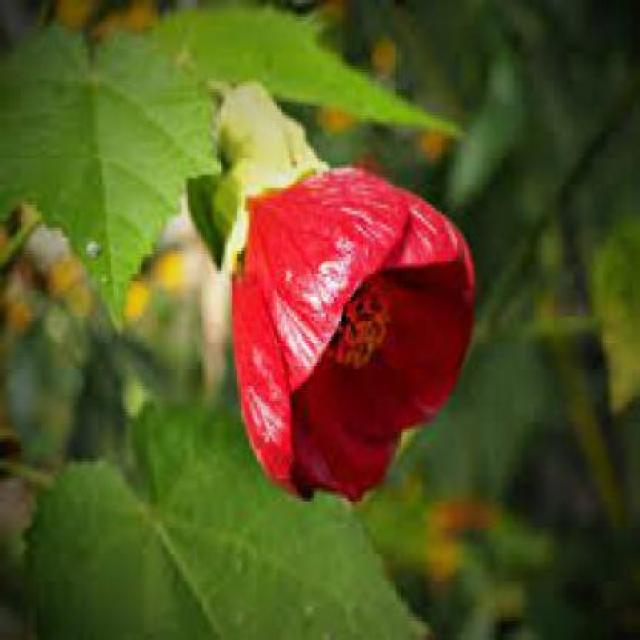Flower: (232, 168, 477, 505), (329, 281, 396, 373)
